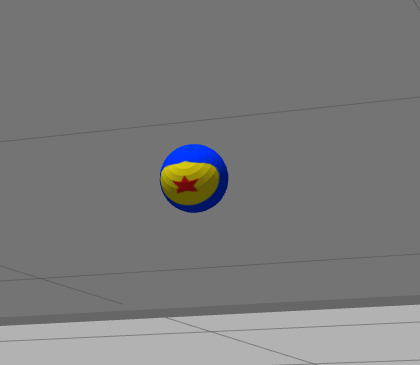toy story ball: (160, 144, 229, 214)
